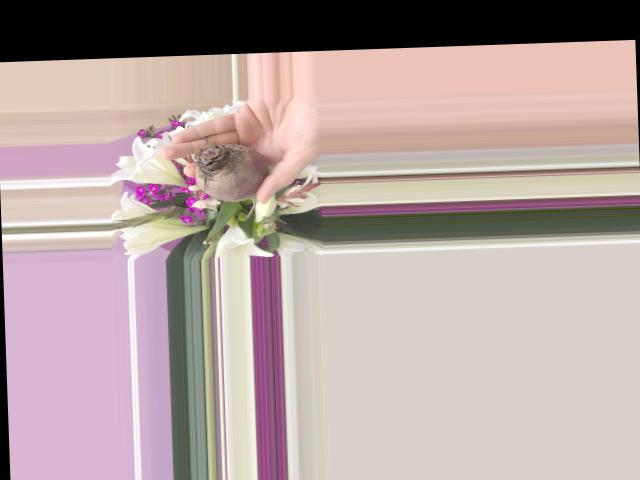beet: (193, 142, 270, 220)
